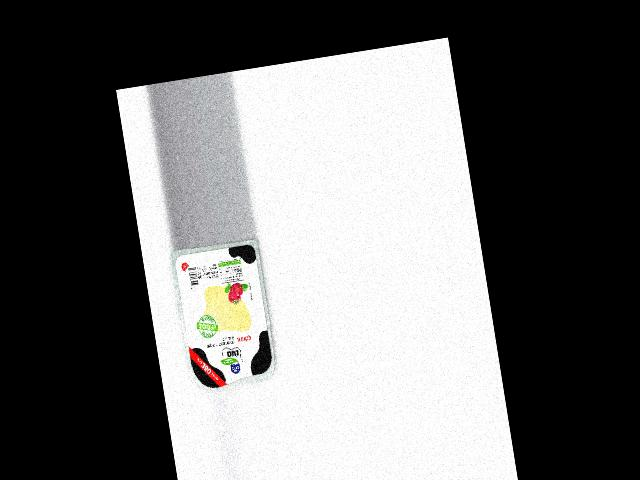cheese: (169, 237, 279, 396)
